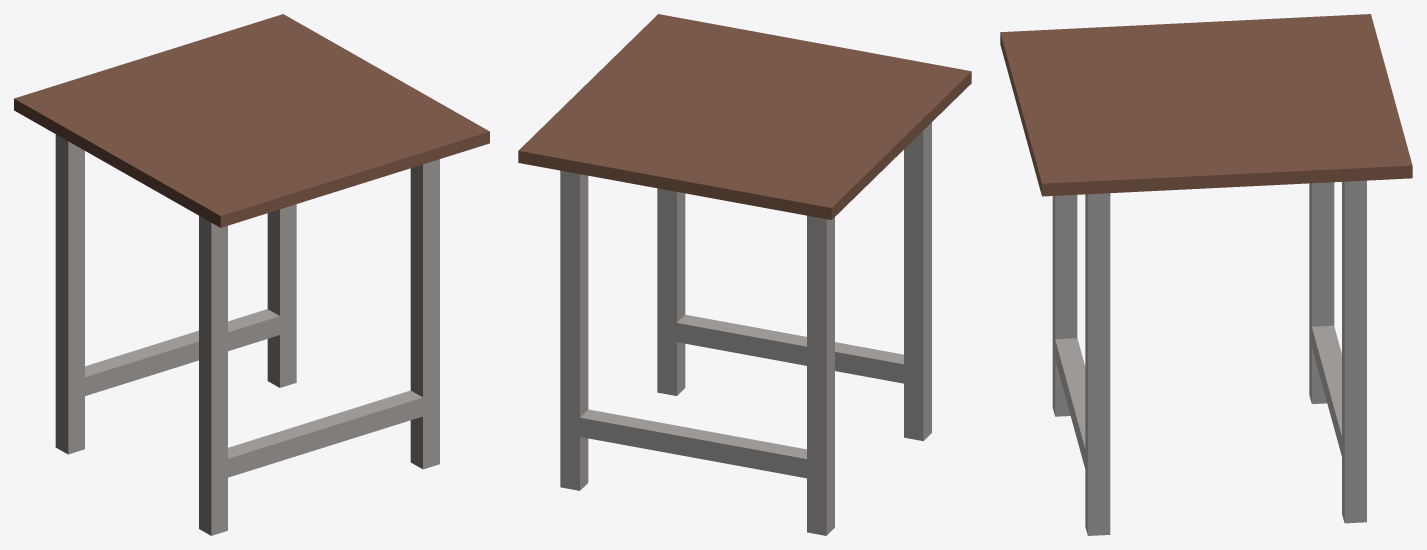
Rendered from Garage_Chair.fbx.
3 renders of one model, left to right at view 1: azimuth 30°, elevation 25°; view 2: azimuth 150°, elevation 25°; view 3: azimuth 270°, elevation 25°, orthographic. The views are drawn at different scales.
Visible parts, largest first — view 1: Garage_Chair; view 2: Garage_Chair; view 3: Garage_Chair.
Boxes of the visible parts, x1,y1,x2,y2 form: Garage_Chair: (14, 14, 489, 535); Garage_Chair: (518, 14, 971, 535); Garage_Chair: (1000, 14, 1412, 535).
Bounding box in the file's own units: 64.25 × 65.93 × 64.84.
